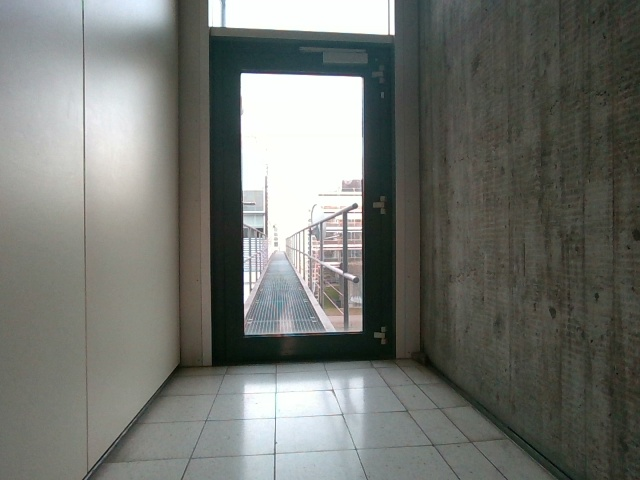door_single: (204, 28, 396, 367)
